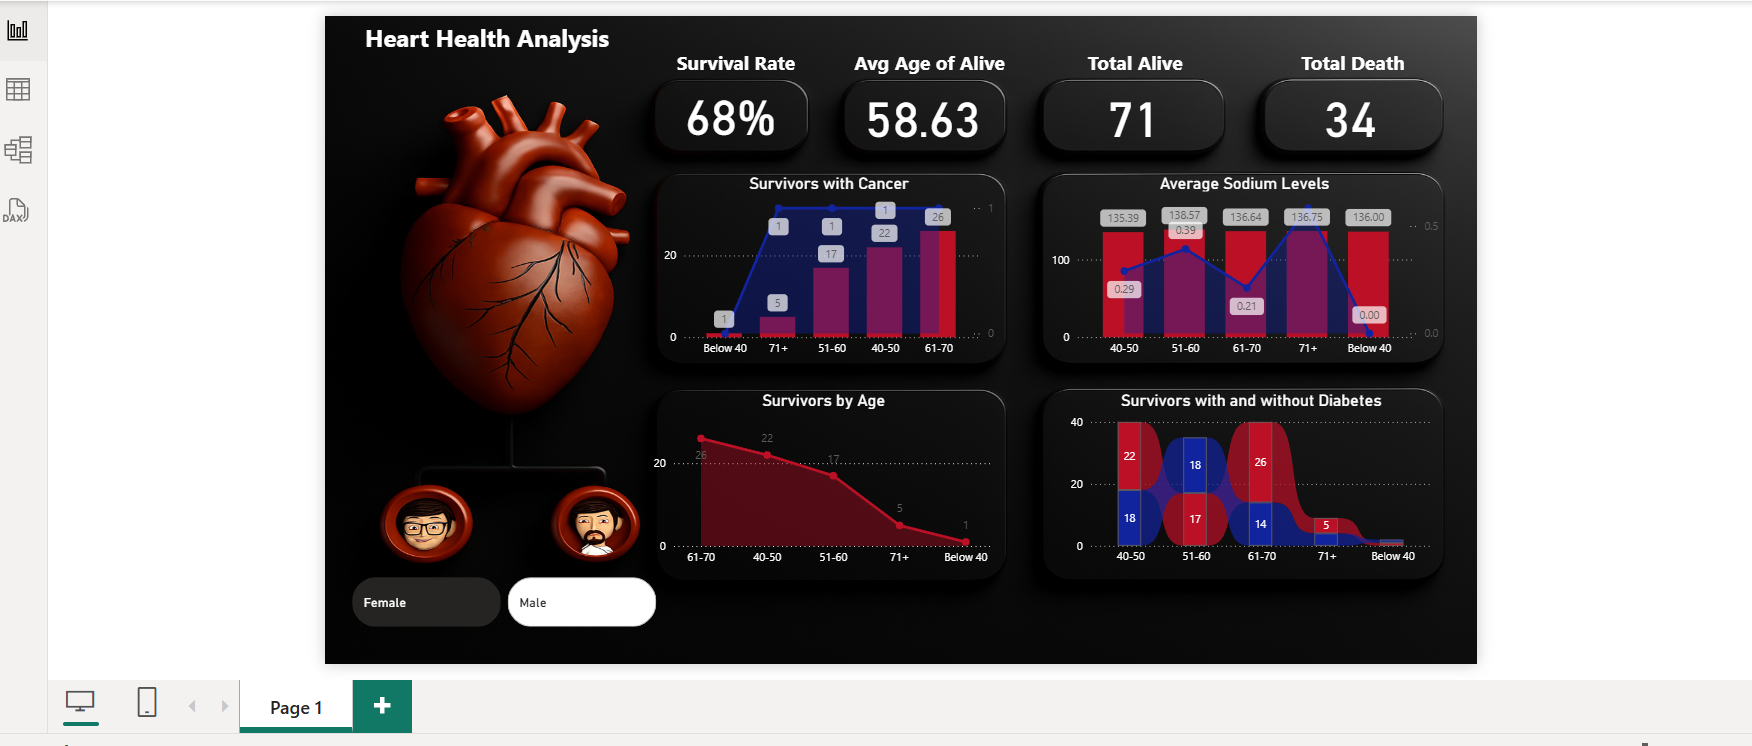

The page's visual inventory and layout, read from the dashboard file:
{"tool":"powerbi","page":{"name":"Page 1","canvas":[1280,720],"ordinal":0},"visuals":[{"type":"textbox","box":[0,0,360,51.7],"z":0},{"type":"card","fields":{"Values":["heart_Disease_clinical_records_.Alive_prc"]},"box":[342,57.3,216.3,98.6],"z":1000},{"type":"card","fields":{"Values":["heart_Disease_clinical_records_.Alive_avg"]},"box":[558.3,62,210,93.8],"z":2000},{"type":"card","fields":{"Values":["heart_Disease_clinical_records_.Total_alive"]},"box":[782.6,62,229,93.8],"z":3000},{"type":"card","fields":{"Values":["heart_Disease_clinical_records_.Total_Death"]},"box":[1032.3,62,214.7,93.8],"z":4000},{"type":"lineClusteredColumnComboChart","title":"Survivors with Cancer","fields":{"Y":["heart_Disease_clinical_records_.Total_alive"],"Y2":["Sum(heart_Disease_clinical_records_.cancer)"],"Category":["heart_Disease_clinical_records_.AGE_GROUP"]},"box":[371.7,175,376.7,211.7],"z":5000},{"type":"lineClusteredColumnComboChart","title":"Average Sodium Levels","fields":{"Category":["heart_Disease_clinical_records_.AGE_GROUP"],"Y":["Avg(heart_Disease_clinical_records_.serum_sodium)"],"Y2":["Avg(heart_Disease_clinical_records_.DEATH_EVENT)"]},"box":[801.7,175,440.6,211.6],"z":6000},{"type":"lineChart","title":"Survivors by Age","fields":{"Y":["heart_Disease_clinical_records_.Total_alive"],"Category":["heart_Disease_clinical_records_.AGE_GROUP"]},"box":[359.5,416.7,388.1,202],"z":7000},{"type":"ribbonChart","title":"Survivors with and without Diabetes","fields":{"Y":["heart_Disease_clinical_records_.Total_alive","Sum(heart_Disease_clinical_records_.diabetes)"],"Category":["heart_Disease_clinical_records_.AGE_GROUP"]},"box":[823.3,416.7,411.7,201.7],"z":8000},{"type":"advancedSlicerVisual","fields":{"Values":["heart_Disease_clinical_records_.Gender"]},"box":[25.4,618.7,349.9,65.2],"z":9000},{"type":"textbox","box":[360,31.7,193.3,41.7],"z":10000},{"type":"textbox","box":[560,31.7,223.3,41.7],"z":11000},{"type":"textbox","box":[801.7,31.8,197.2,41.4],"z":12000},{"type":"textbox","box":[1032.3,31.8,221.1,41.4],"z":13000}]}

Visuals, with their boxes on the page's 1280x720 design canvas (x1, y1, x2, y2). These are canvas units, not pixel positions in the 1752x746 screenshot, which may show the page scaled, cropped or inside an application window:
textbox: pyautogui.locateOnScreen(0, 0, 360, 52)
card - heart_Disease_clinical_records_.Alive_prc: pyautogui.locateOnScreen(342, 57, 558, 156)
card - heart_Disease_clinical_records_.Alive_avg: pyautogui.locateOnScreen(558, 62, 768, 156)
card - heart_Disease_clinical_records_.Total_alive: pyautogui.locateOnScreen(783, 62, 1012, 156)
card - heart_Disease_clinical_records_.Total_Death: pyautogui.locateOnScreen(1032, 62, 1247, 156)
"Survivors with Cancer" lineClusteredColumnComboChart: pyautogui.locateOnScreen(372, 175, 748, 387)
"Average Sodium Levels" lineClusteredColumnComboChart: pyautogui.locateOnScreen(802, 175, 1242, 387)
"Survivors by Age" lineChart: pyautogui.locateOnScreen(360, 417, 748, 619)
"Survivors with and without Diabetes" ribbonChart: pyautogui.locateOnScreen(823, 417, 1235, 618)
advancedSlicerVisual - heart_Disease_clinical_records_.Gender: pyautogui.locateOnScreen(25, 619, 375, 684)
textbox: pyautogui.locateOnScreen(360, 32, 553, 73)
textbox: pyautogui.locateOnScreen(560, 32, 783, 73)
textbox: pyautogui.locateOnScreen(802, 32, 999, 73)
textbox: pyautogui.locateOnScreen(1032, 32, 1253, 73)
